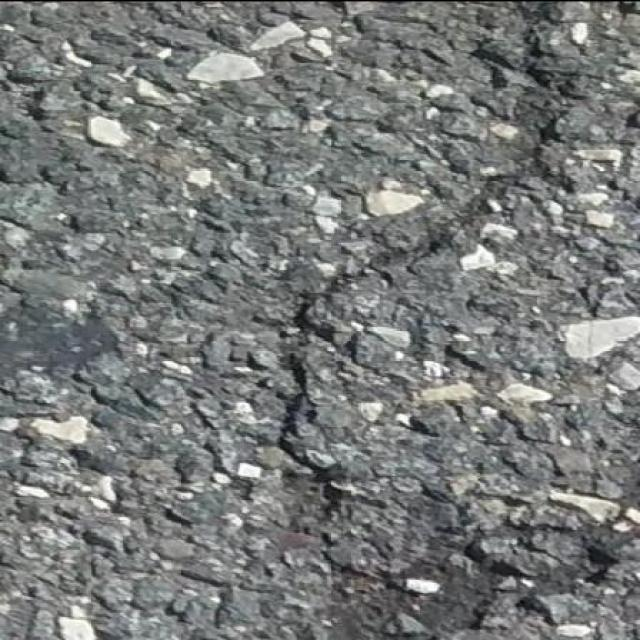Crack: (301, 16, 578, 314), (338, 439, 640, 640), (276, 318, 380, 536)
